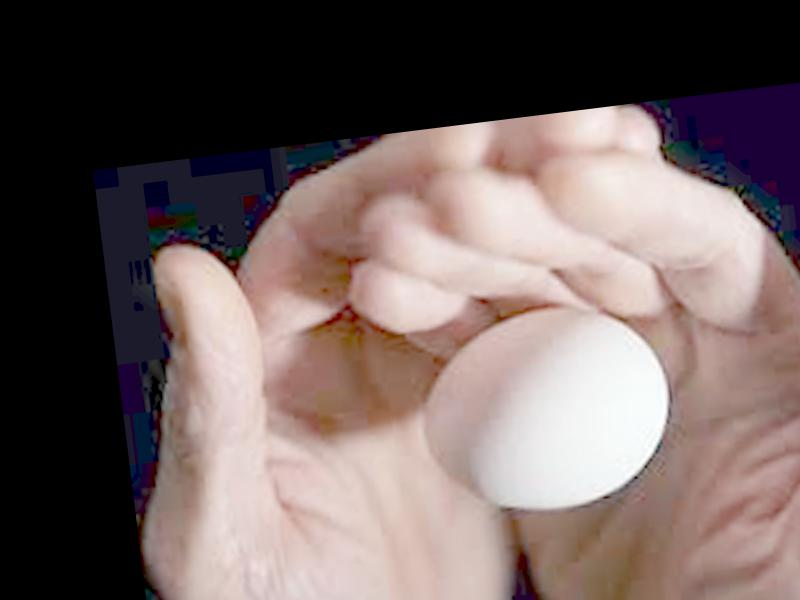Eggs: (414, 297, 681, 524)
